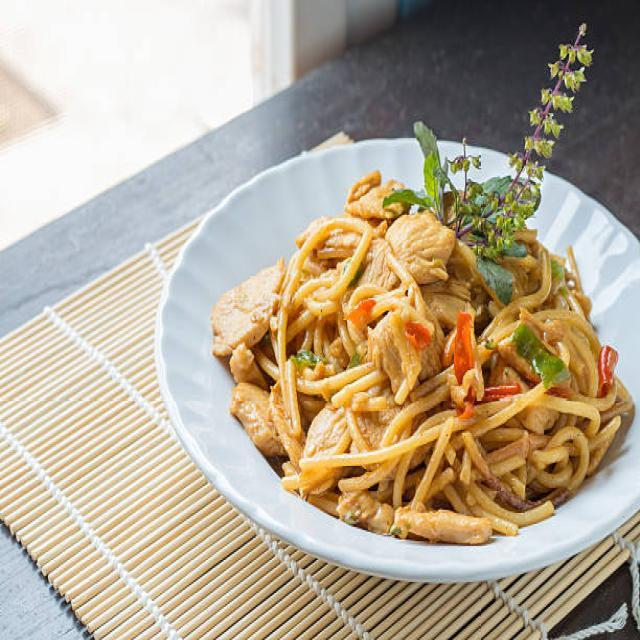cac loai rau cu: (416, 29, 596, 226), (514, 314, 558, 399), (349, 295, 385, 342), (402, 307, 436, 350), (600, 340, 626, 395), (452, 318, 471, 388)
mi ga hung que kem: (201, 23, 639, 540)
soi mi khoai lang: (422, 417, 626, 500), (387, 405, 493, 509), (284, 325, 382, 409), (297, 200, 371, 309), (513, 246, 598, 322)
thit ga: (351, 483, 493, 553), (202, 237, 282, 347), (383, 206, 452, 287), (368, 311, 439, 387), (227, 354, 274, 459), (353, 160, 417, 224), (309, 404, 348, 483), (511, 400, 552, 440)
